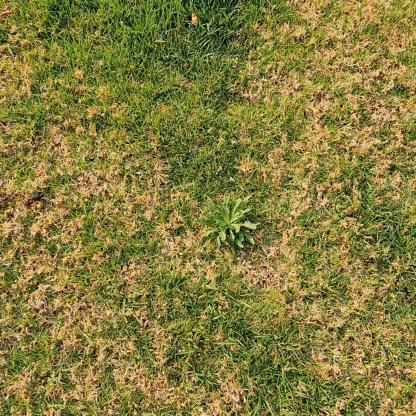Weeds: (194, 195, 261, 254)
